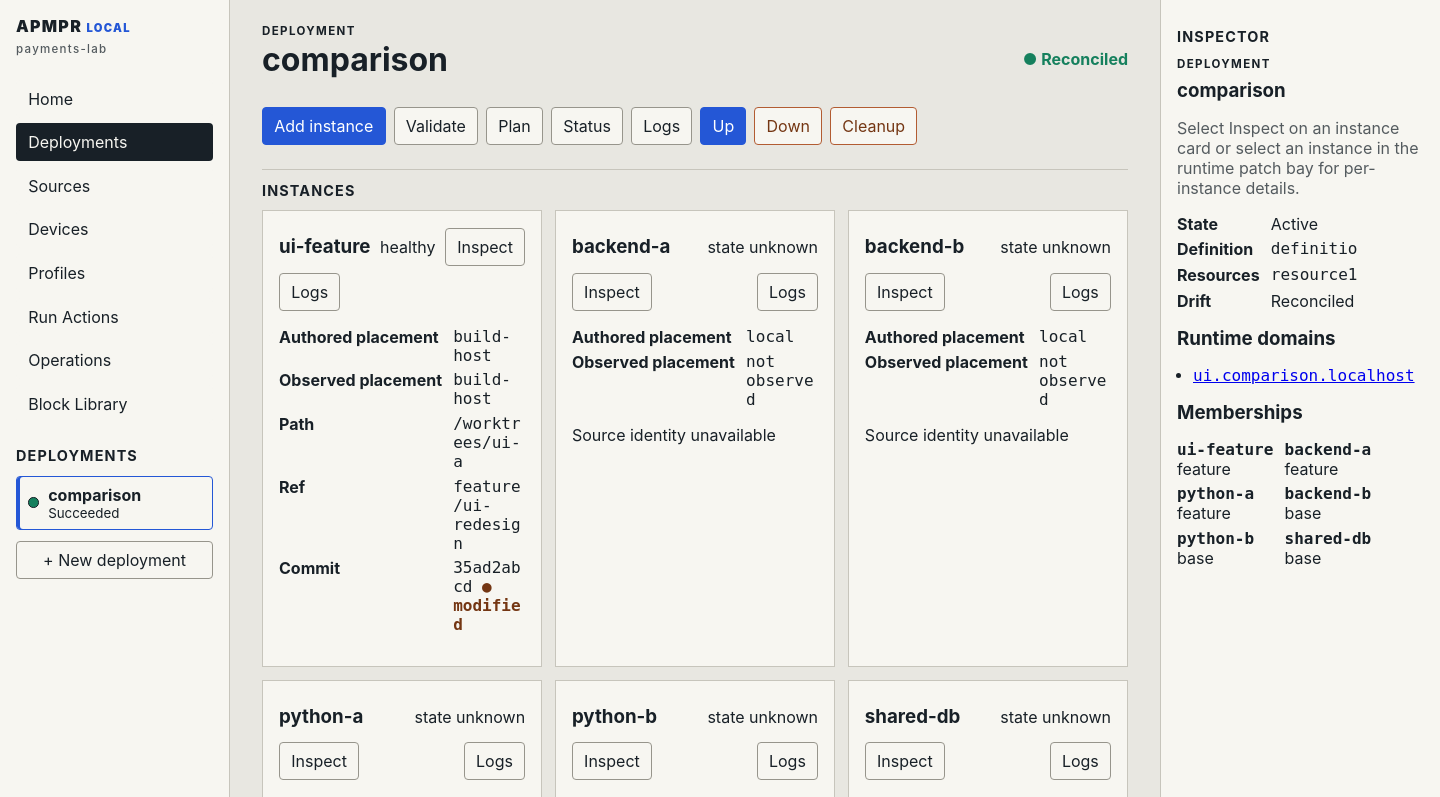
APM ProjectRunner GUI › renders destructive timeline markers only from the operation field
What coordinates should you click on to do the following:
click the button "operations"
I would click on:
 (114, 360)
Its box is [16, 341, 213, 379].
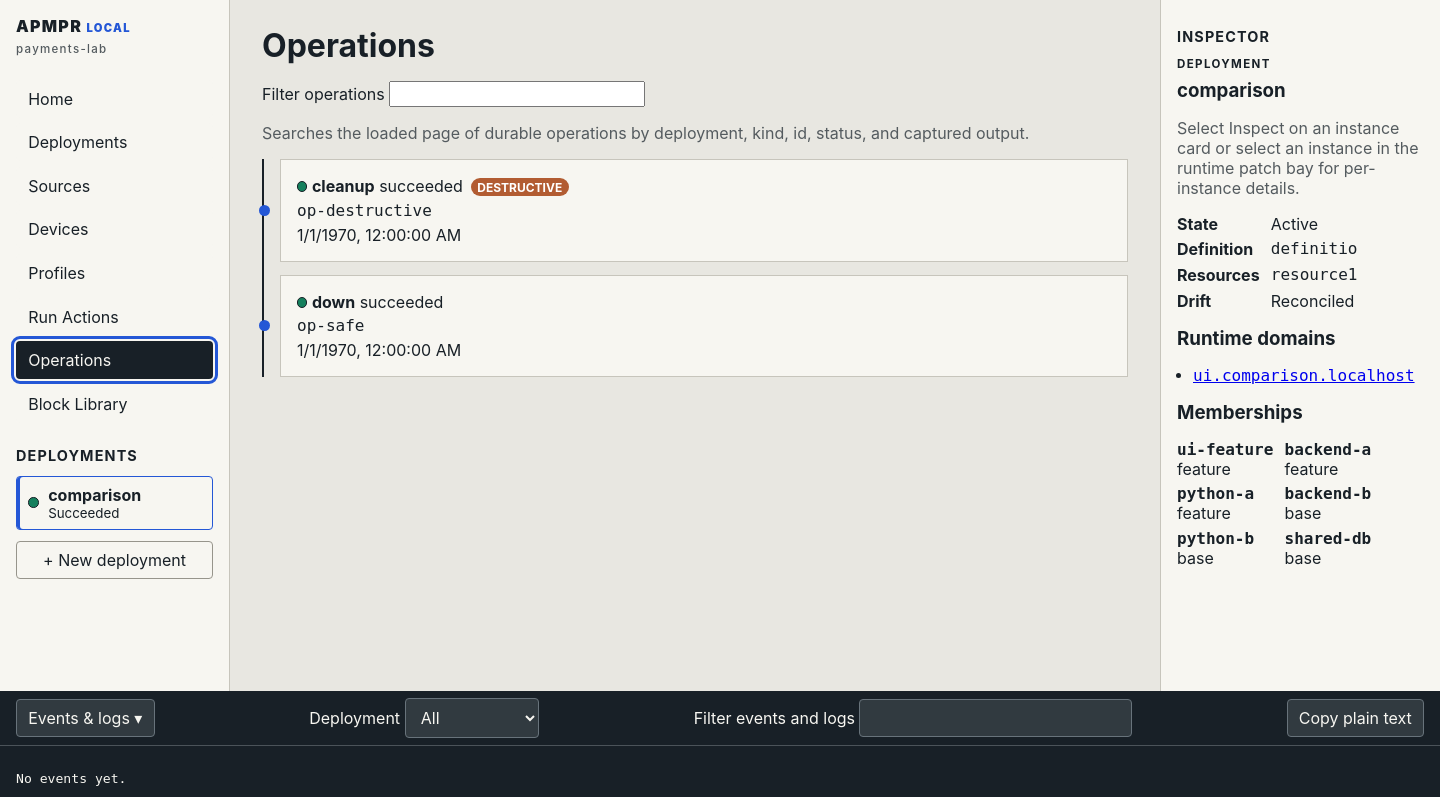
Result: the text "Destructive" is shown at [471, 178, 569, 196]
